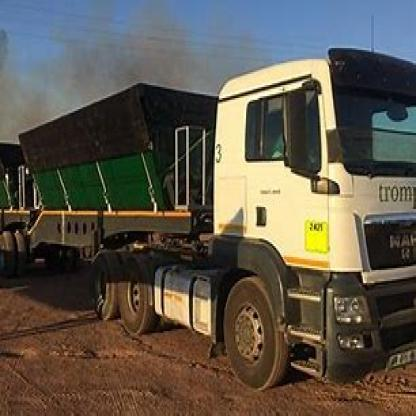dump_truck: (6, 41, 414, 382)
